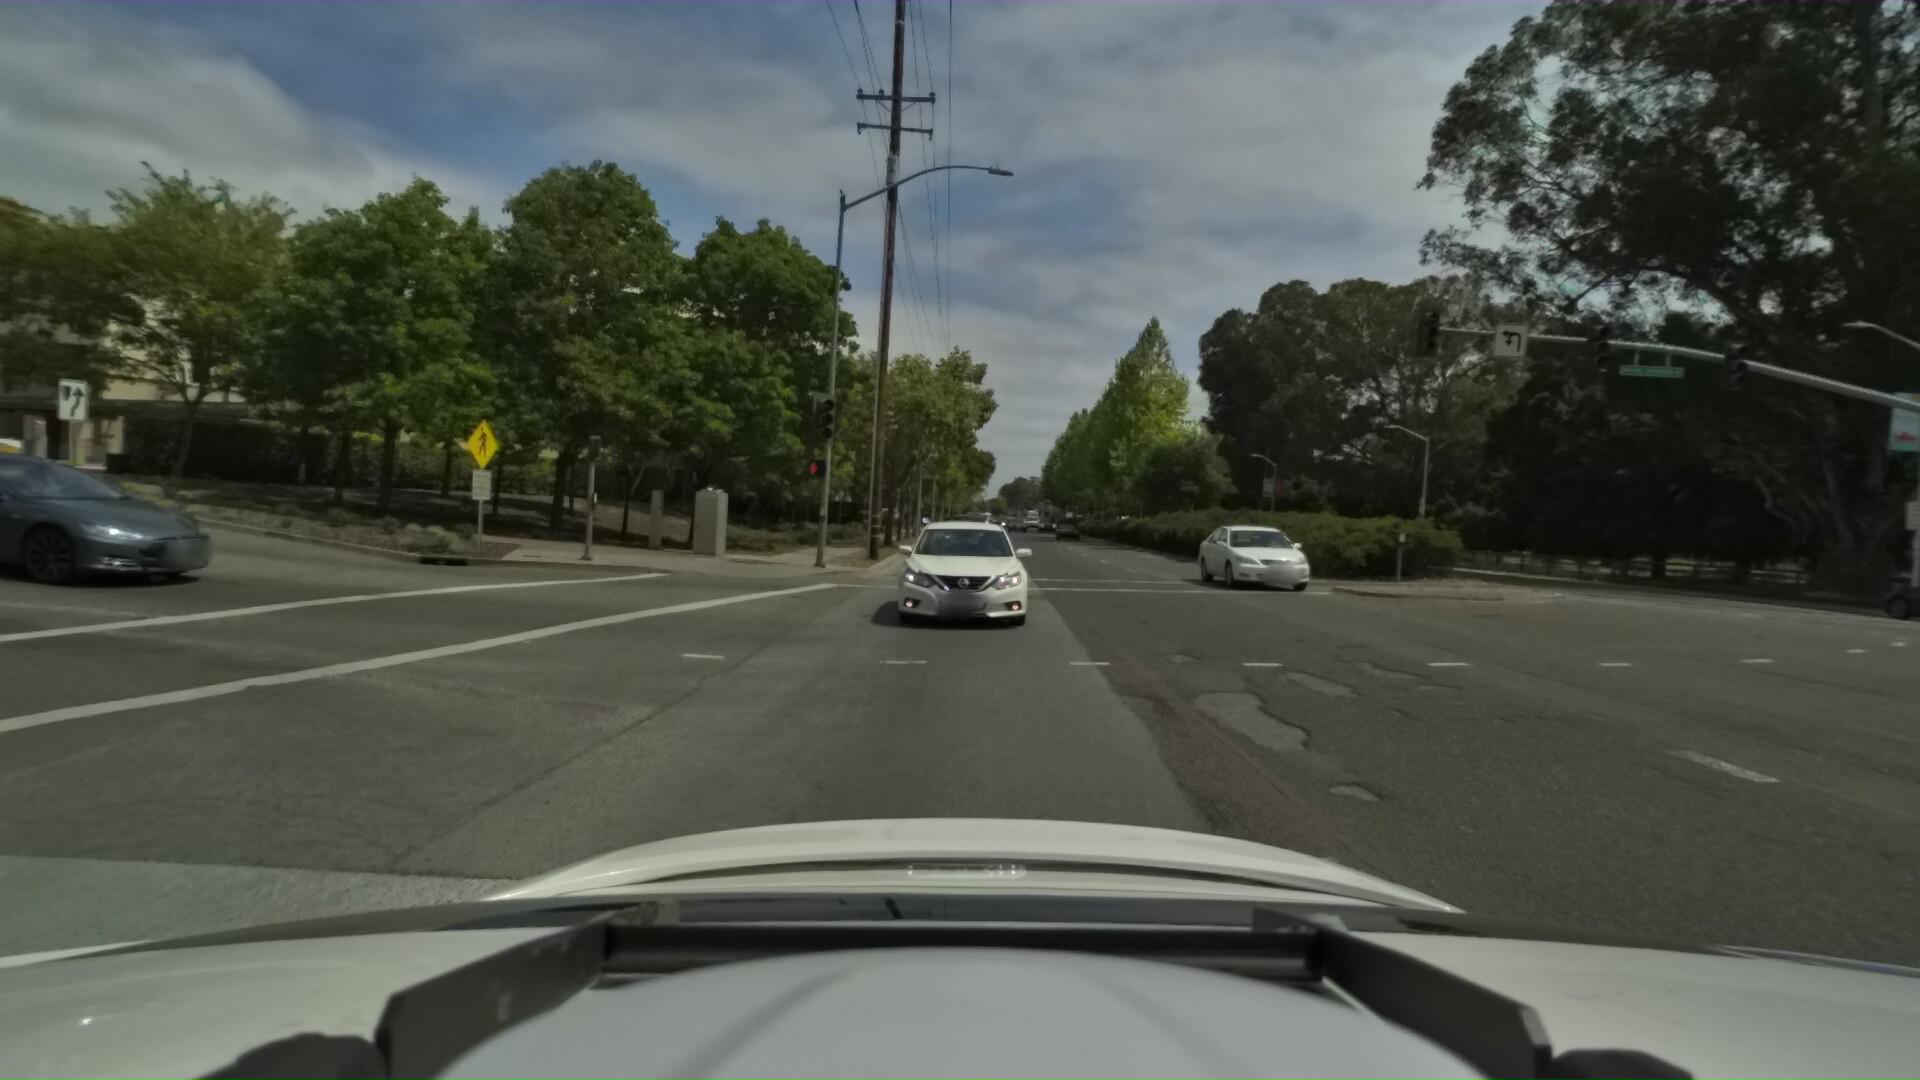car: (0, 440, 276, 591), (876, 514, 1042, 647), (1188, 495, 1327, 603), (1832, 563, 1920, 633), (931, 509, 988, 556), (1051, 513, 1085, 538)
